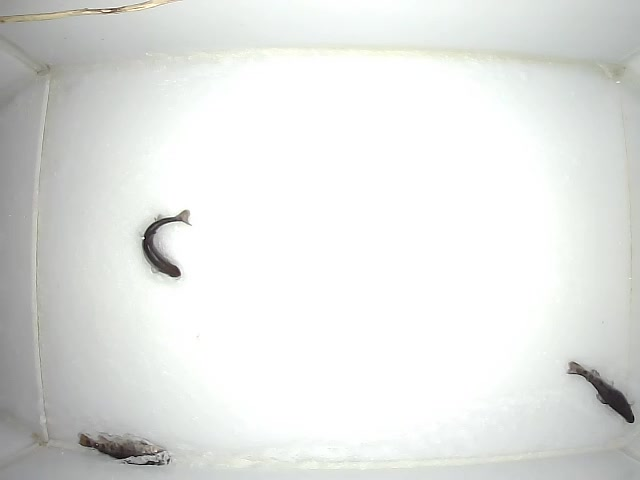fish: (567, 358, 637, 426), (140, 207, 194, 280), (76, 431, 172, 467)
